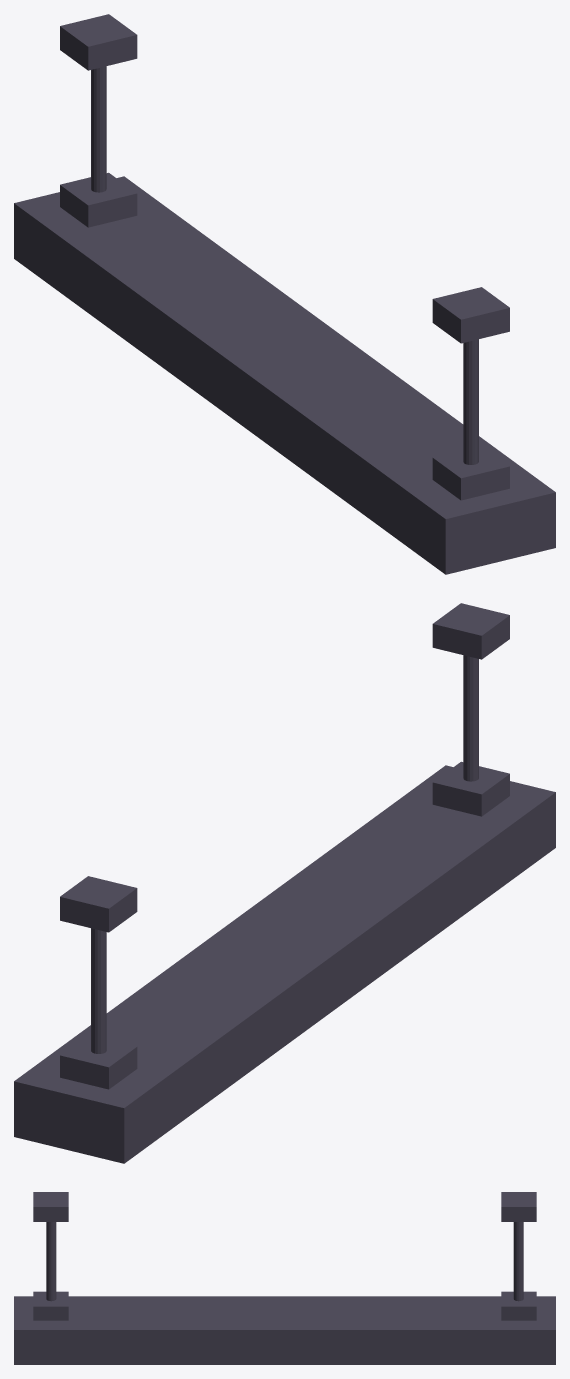
File: CeilingLight.fbx
3 renders of one model, top to bottom at view 1: azimuth 30°, elevation 25°; view 2: azimuth 150°, elevation 25°; view 3: azimuth 270°, elevation 25°, orthographic. The views are drawn at different scales.
Visible parts, largest first — view 1: CeilingLight; view 2: CeilingLight; view 3: CeilingLight.
Part boxes in pixels (x1=…): CeilingLight: x1=14, y1=14, x2=555, y2=574; CeilingLight: x1=14, y1=603, x2=555, y2=1163; CeilingLight: x1=14, y1=1192, x2=555, y2=1364.
Size of the model in its own units: 200 by 410 by 1357.
